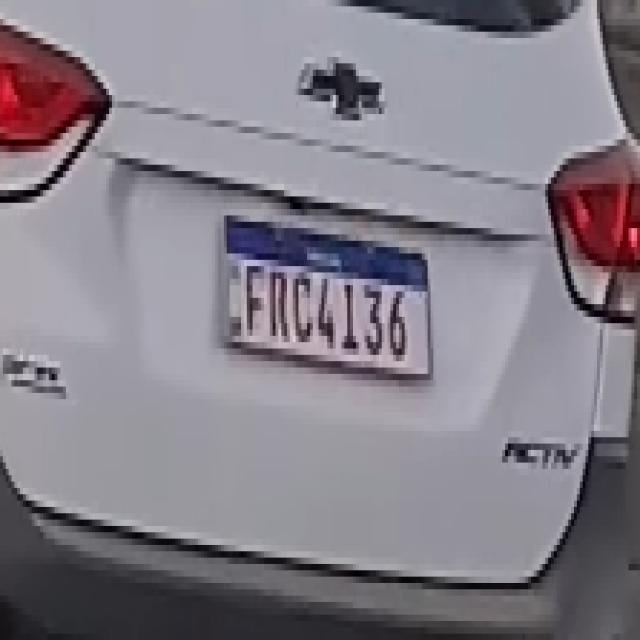Placa_mercosul_carro: (221, 213, 431, 379)
